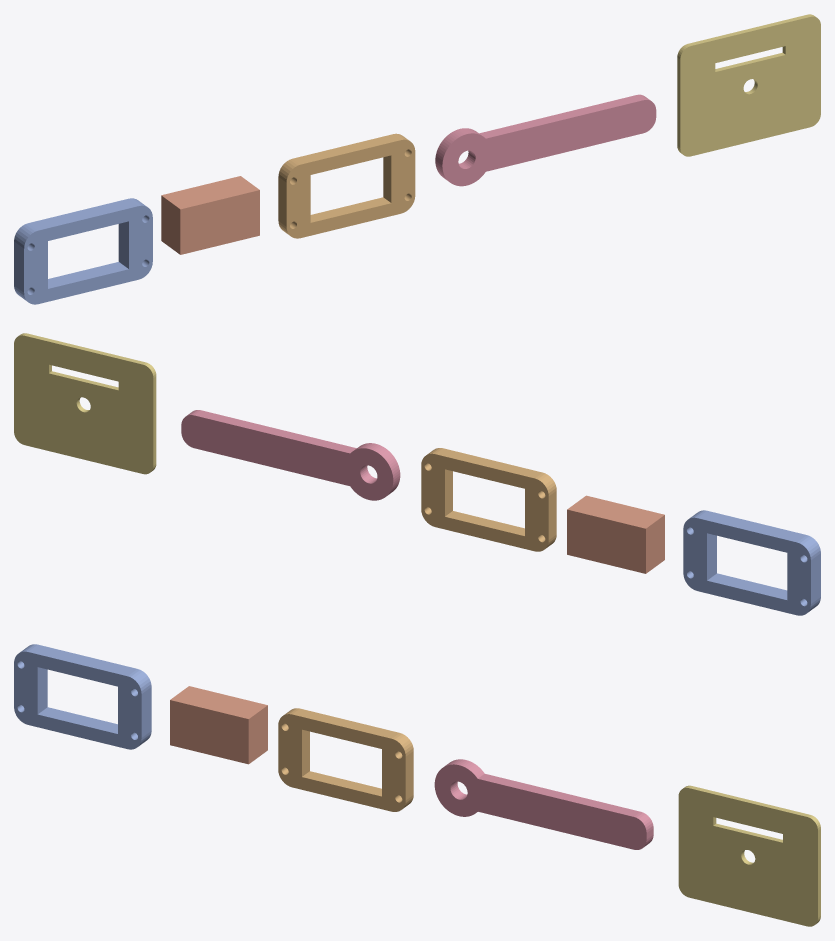
The model's file is wiper_kit_demo.glb.
3 views of the same model, one above another, from view 1: azimuth 30°, elevation 25°; view 2: azimuth 150°, elevation 25°; view 3: azimuth 330°, elevation 25° (orthographic).
Visible parts, largest first — view 1: stencil, arm, zn_frame_half, zp_frame_half, servo_mg90s; view 2: stencil, arm, zn_frame_half, zp_frame_half, servo_mg90s; view 3: stencil, arm, zn_frame_half, zp_frame_half, servo_mg90s.
Boxes of the visible parts, box(x1,y1,x2,y2) form: stencil: box(677, 14, 820, 156); arm: box(435, 94, 656, 186); zn_frame_half: box(14, 198, 152, 304); zp_frame_half: box(278, 133, 415, 238); servo_mg90s: box(161, 176, 259, 254); stencil: box(14, 333, 156, 474); arm: box(181, 410, 400, 500); zn_frame_half: box(683, 510, 820, 615); zp_frame_half: box(421, 448, 556, 551); servo_mg90s: box(567, 495, 664, 573); stencil: box(678, 785, 820, 926); arm: box(434, 759, 653, 849); zn_frame_half: box(14, 644, 151, 749); zp_frame_half: box(278, 708, 413, 811); servo_mg90s: box(170, 686, 267, 764).
Size of the model in its own units: 229 by 30 by 9.75.
